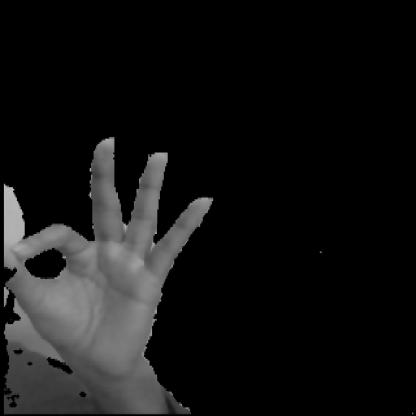ok: (4, 119, 216, 404)
